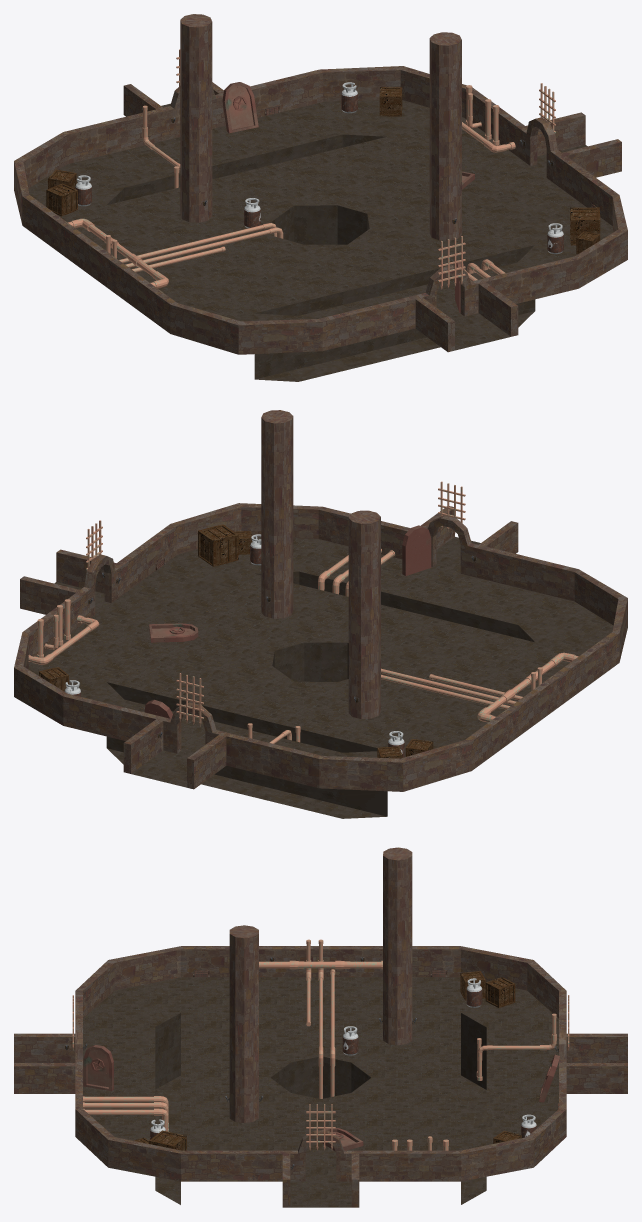
The model's file is room_base_T_pipes_40x40.glb.
3 views of the same model, one above another, from view 1: azimuth 30°, elevation 25°; view 2: azimuth 150°, elevation 25°; view 3: azimuth 270°, elevation 25° (orthographic). The views are drawn at different scales.
Visible parts, largest first — view 1: floor, Plane.001, floor.001, Cylinder.026, Cylinder.027, Cylinder.002, Cylinder.001, Cylinder.004, gate.002, Plane.004_cell.003, Cylinder.005; view 2: floor, Plane.001, floor.001, Cylinder.027, Cylinder.026, Cylinder.002, gate.001, Cylinder.001, Cylinder.009, Cylinder.004, gate.002, Cube.001_cell.003 (+1 smaller); view 3: floor, Plane.001, floor.001, Cylinder.026, Cylinder.027, Cylinder.002, Cylinder.014, Cylinder.001, Cylinder.004, gate.003, Cylinder.010, Plane.003_cell (+2 smaller).
Part boxes in pixels (x1,y1,x2,y2): floor: (28,100,613,350); Plane.001: (14,66,627,354); floor.001: (107,134,535,381); Cylinder.026: (180,14,212,222); Cylinder.027: (429,32,461,240); Cylinder.002: (68,218,168,288); Cylinder.001: (106,227,283,267); Cylinder.004: (119,223,277,263); gate.002: (438,236,465,289); Plane.004_cell.003: (226,93,250,133); Cylinder.005: (112,239,225,272); floor: (28,537,613,787); Plane.001: (14,503,627,791); floor.001: (106,571,534,818); Cylinder.027: (261,410,293,618); Cylinder.026: (348,510,380,718); Cylinder.002: (477,652,578,722); gate.001: (176,673,203,726); Cylinder.001: (381,668,535,704); Cylinder.009: (28,615,99,664); Cylinder.004: (381,674,510,709); gate.002: (438,481,465,533); Cube.001_cell.003: (199,531,237,555); floor: (83,977,558,1207); Plane.001: (14,946,627,1207); floor.001: (155,1013,486,1204); Cylinder.026: (383,847,412,1045); Cylinder.027: (229,925,258,1122); Cylinder.002: (259,960,382,969); Cylinder.014: (477,1013,556,1080); Cylinder.001: (318,939,323,1098); Cylinder.004: (330,969,335,1096); gate.003: (306,1104,335,1150); Cylinder.010: (83,1096,168,1127); Plane.003_cell: (83,1063,113,1091).
Size of the model in its own units: 36 by 17.79 by 40.
10 materials, 10 textured.
